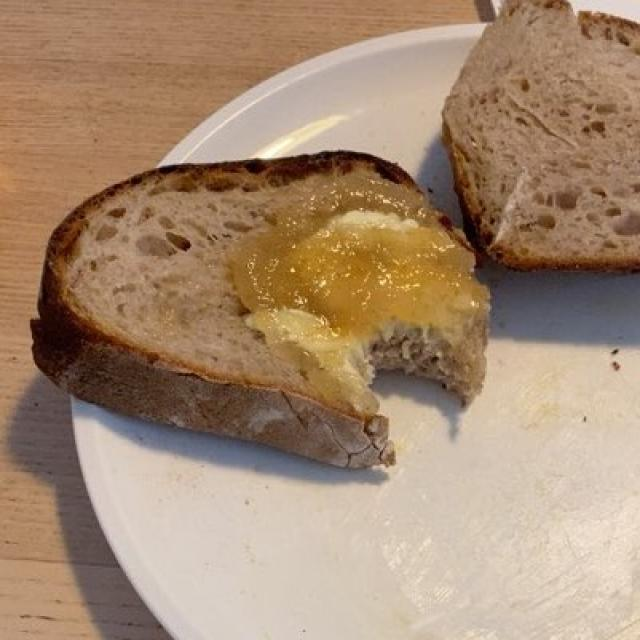bread-sourdough: (9, 11, 630, 474)
butter: (249, 213, 453, 404)
jam: (222, 174, 457, 325)
